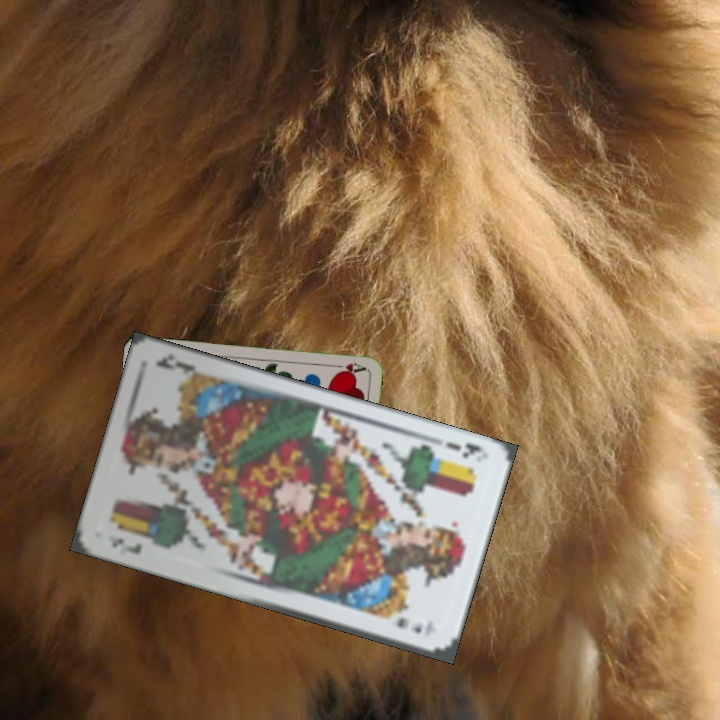EK: (441, 437, 489, 461), (105, 532, 145, 557)
HA: (326, 358, 367, 375)
